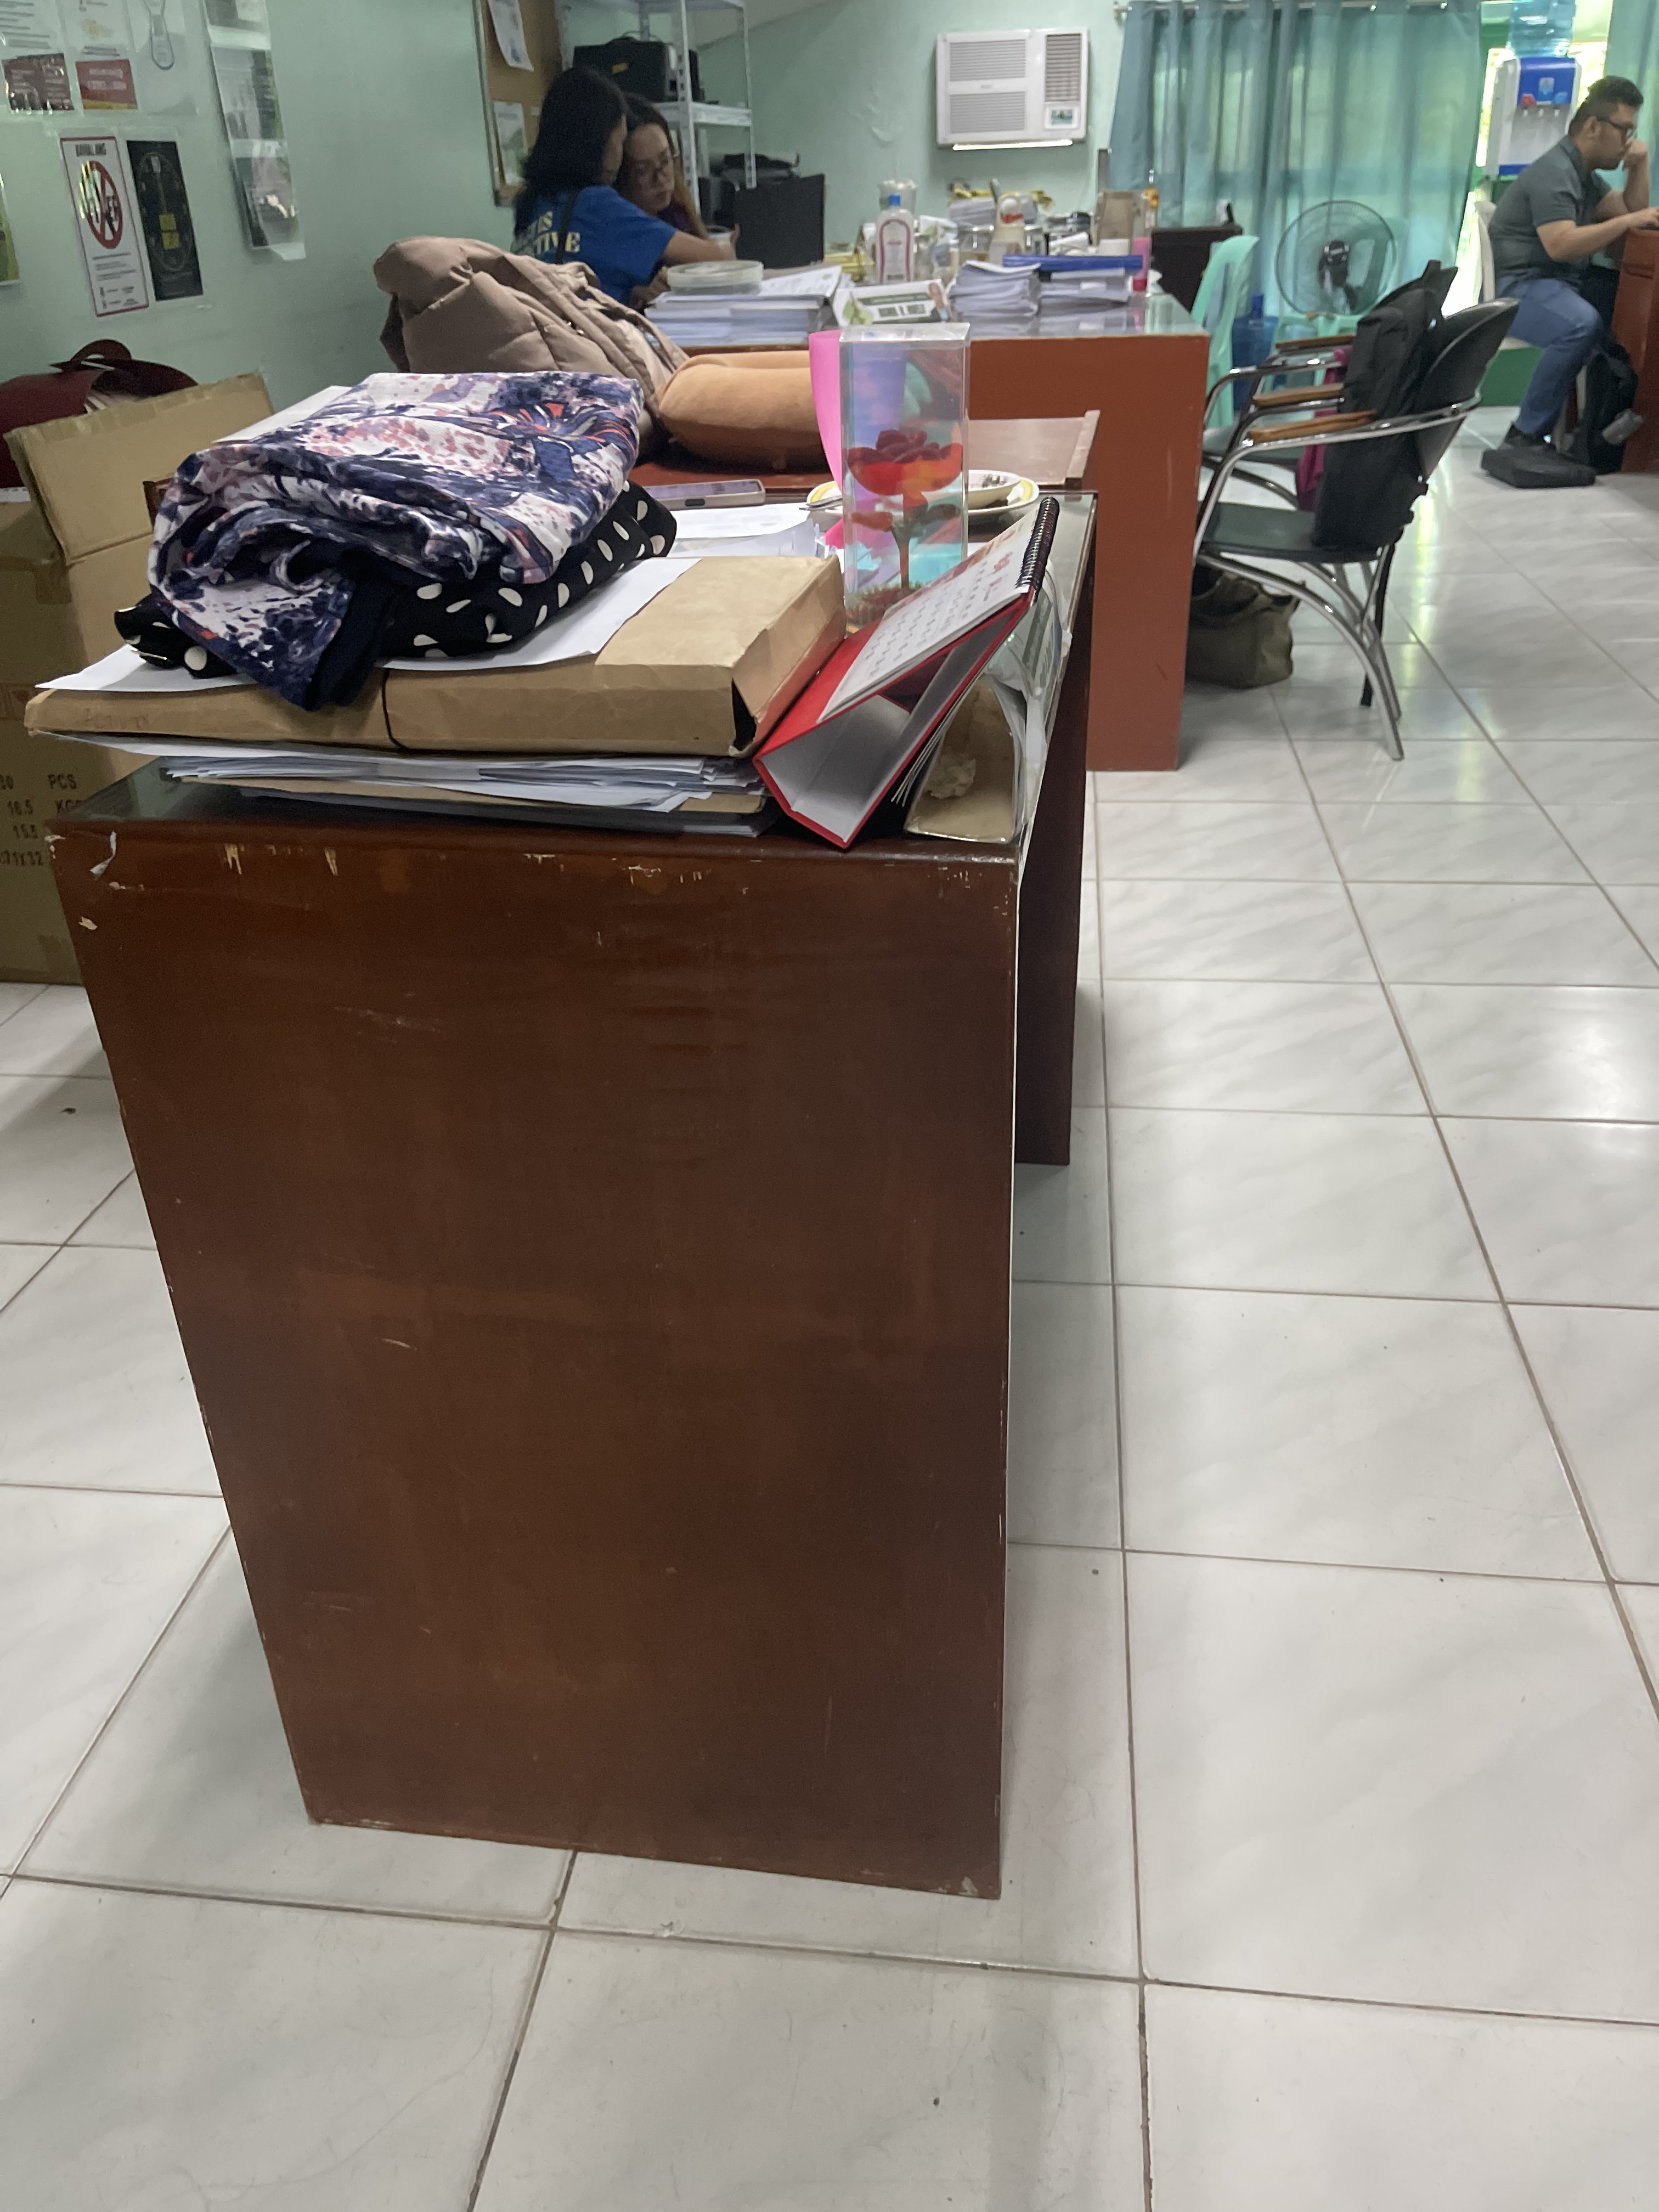table2: (19, 502, 1121, 1911)
